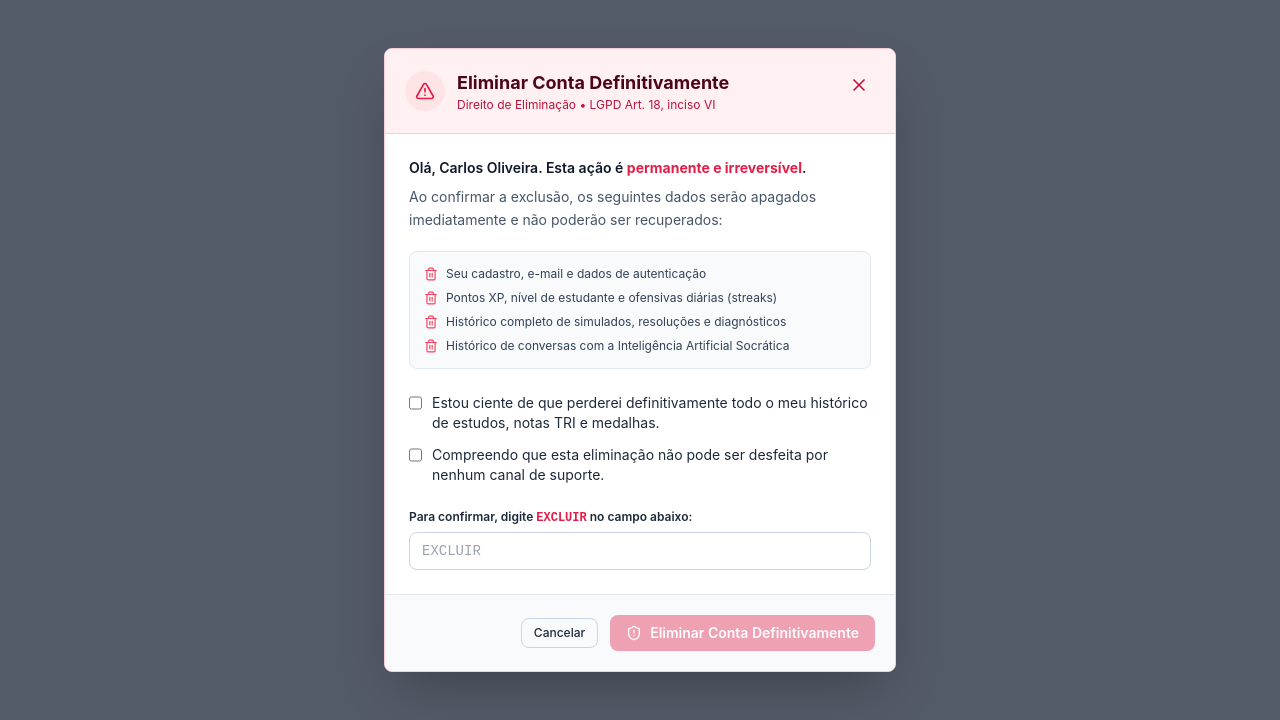
AccountErasureModal Component › should have delete button disabled until both checkboxes are checked and EXCLUIR is typed
Expected: the button "Eliminar Conta Definitivamente" is disabled, [610,615,875,651]
// Check first checkbox only
Click the 1st checkbox: x=416, y=403 [409,395,422,411]
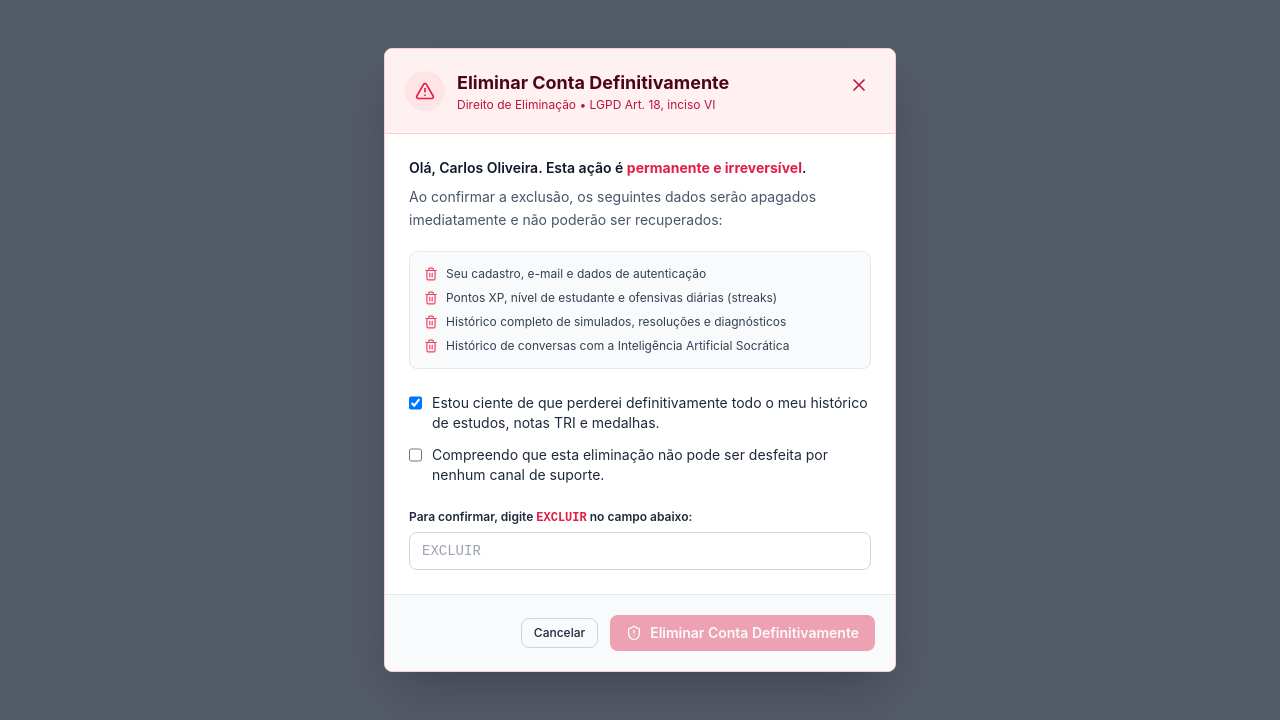
Expected: the button "Eliminar Conta Definitivamente" is disabled, [610,615,875,651]
// Check second checkbox
Click the 2nd checkbox: x=416, y=455 [409,447,422,463]
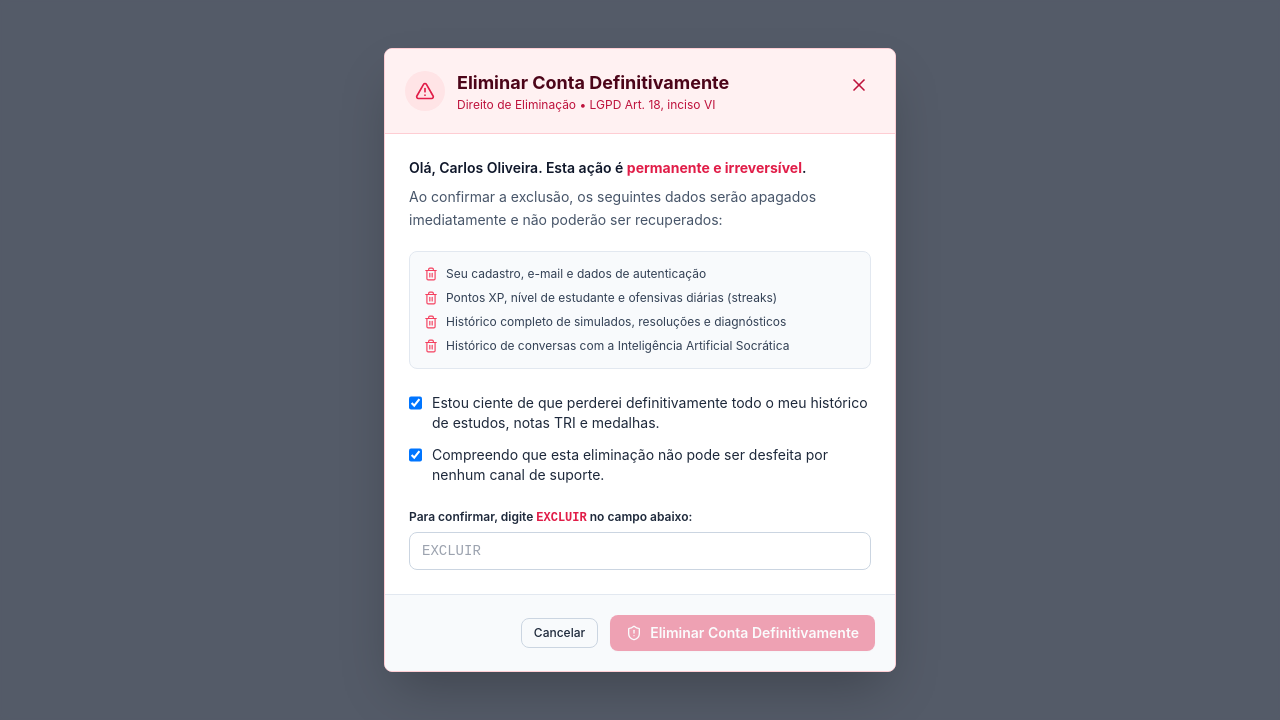
Expected: the button "Eliminar Conta Definitivamente" is disabled, [610,615,875,651]
// Type incorrect challenge string
In the field labelled "Para confirmar, digite EXCLUIR no campo abaixo:": x=640, y=551 [409,532,871,570], type "DELETE"
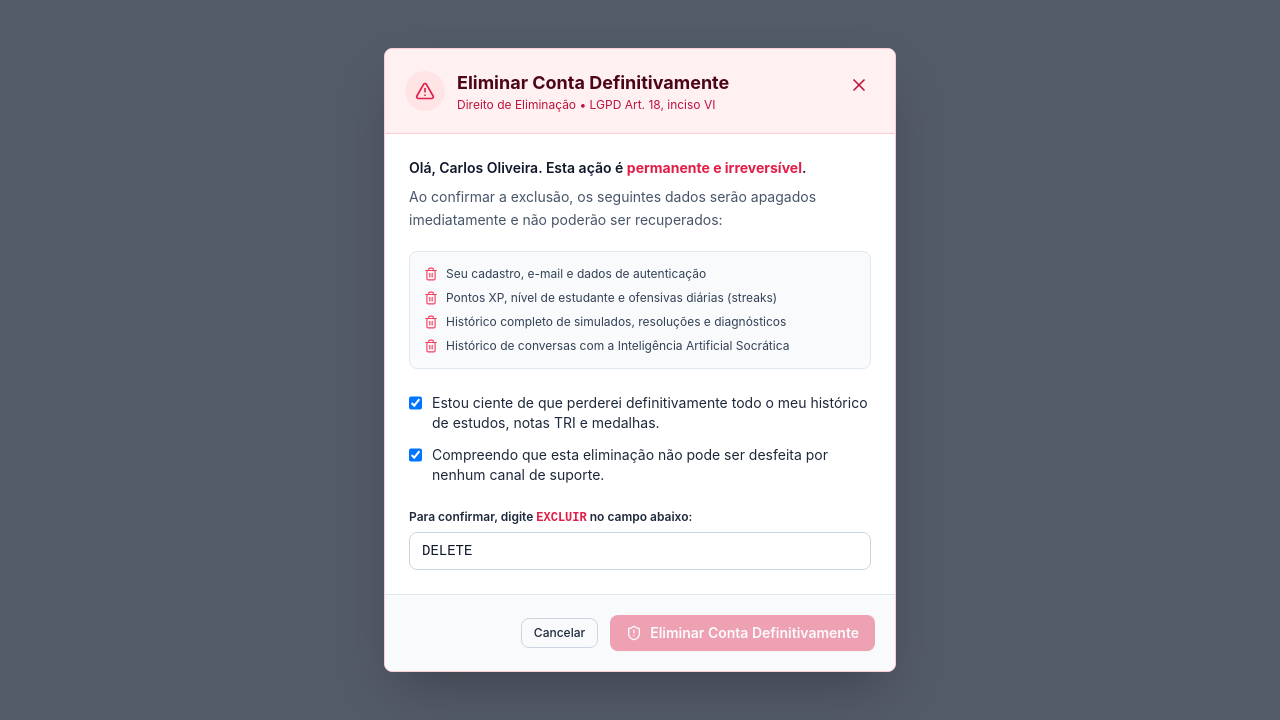
Expected: the button "Eliminar Conta Definitivamente" is disabled, [610,615,875,651]
// Type "excluir" (lowercase, should accept case-insensitively)
Replace the text in the field labelled "Para confirmar, digite EXCLUIR no campo abaixo:" with "excluir": x=640, y=551 [409,532,871,570]
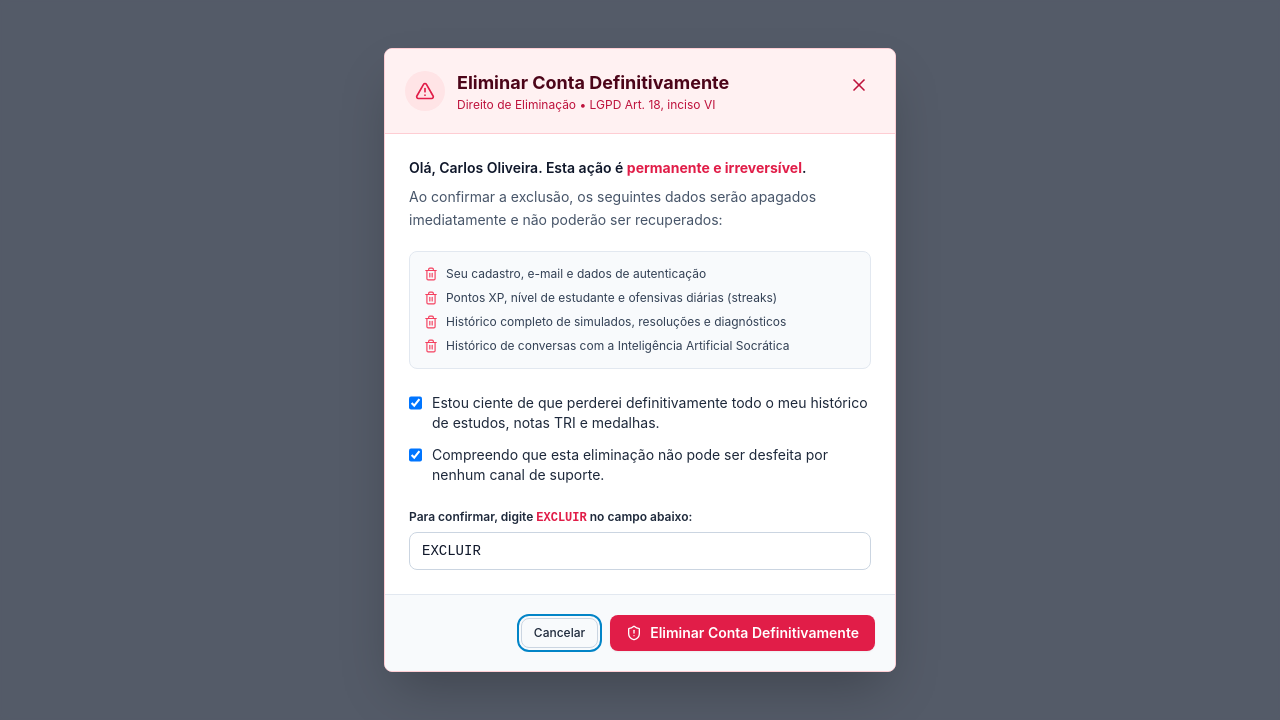
Result: the button "Eliminar Conta Definitivamente" is enabled at [610,615,875,651]
